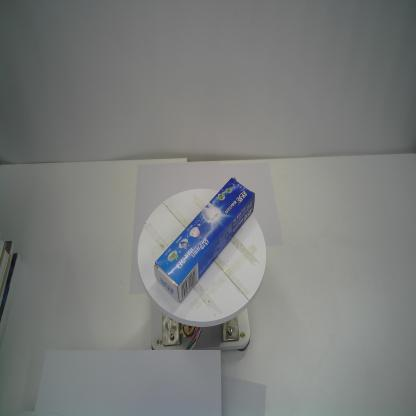Personal Hygiene: (154, 179, 256, 304)
